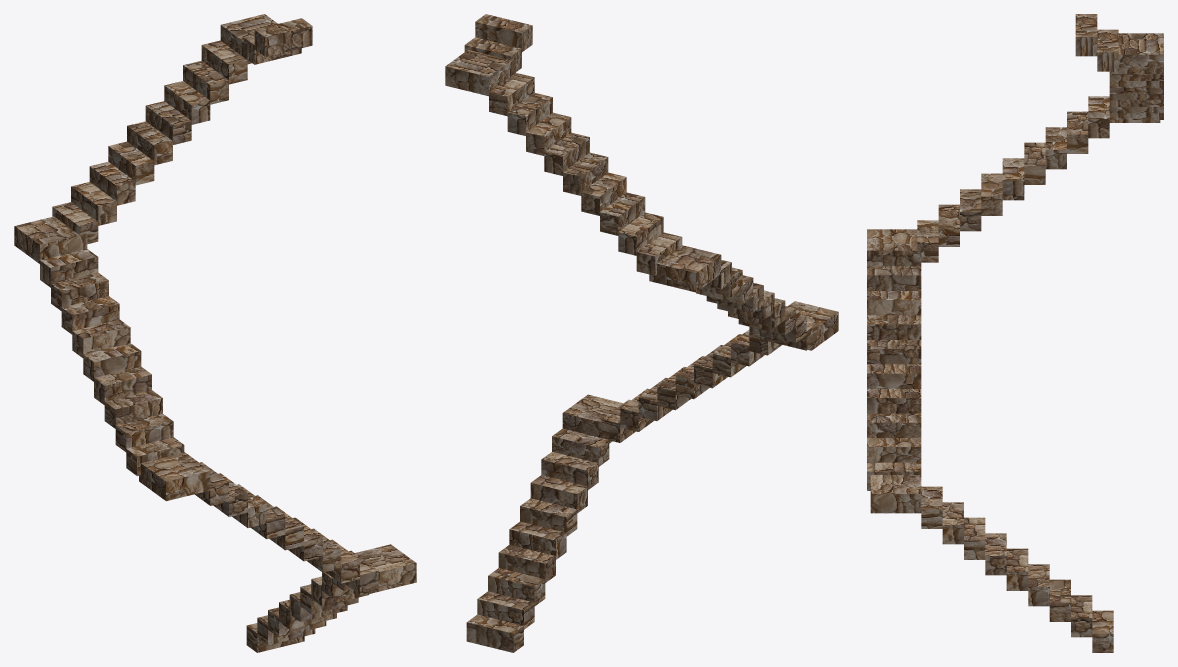
The model's file is stairs_square.fbx.
3 views of the same model, side by side, from view 1: azimuth 30°, elevation 25°; view 2: azimuth 150°, elevation 25°; view 3: azimuth 270°, elevation 25° (orthographic).
Parts seen in each view (by area): view 1: Cube.014; view 2: Cube.014; view 3: Cube.014.
Part boxes in pixels (x1,y1,x2,y2): Cube.014: (14, 14, 416, 652); Cube.014: (445, 14, 838, 652); Cube.014: (867, 14, 1163, 652).
Bounding box in the file's own units: 607 × 1410 × 616.
1 material, 1 textured.
